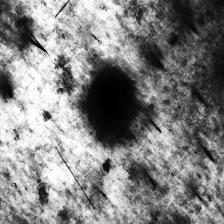Benign Marking or Mole: (89, 74, 136, 140)
